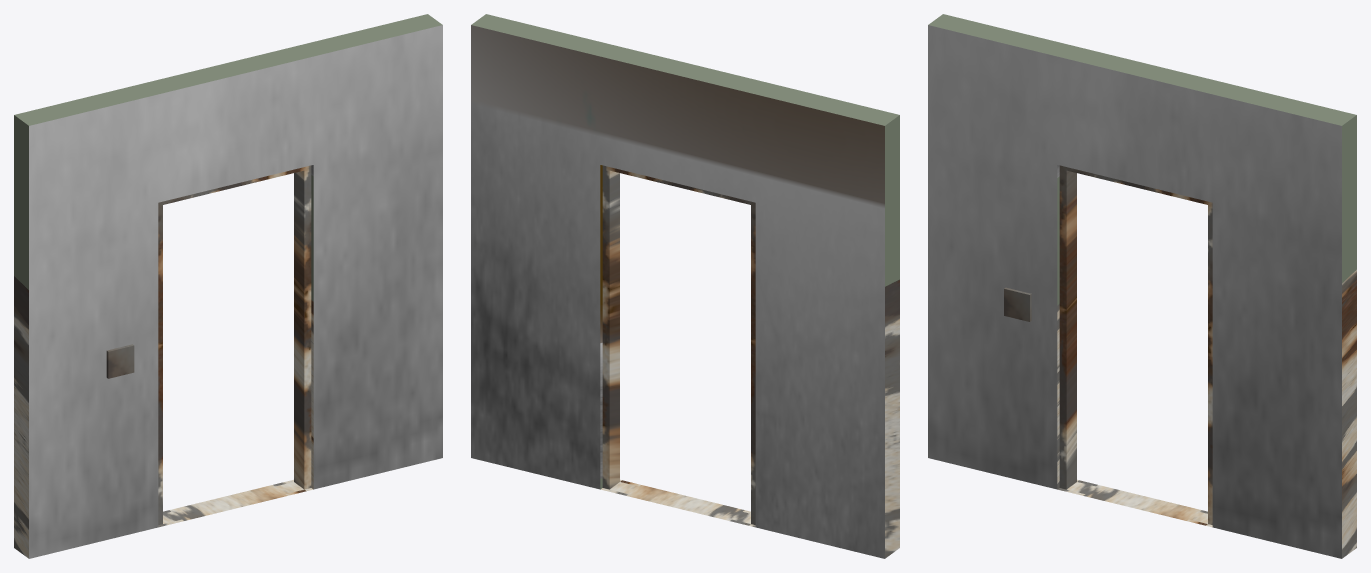
The model's file is entrance.fbx.
3 renders of one model, left to right at view 1: azimuth 30°, elevation 25°; view 2: azimuth 150°, elevation 25°; view 3: azimuth 330°, elevation 25°, orthographic.
Parts seen in each view (by area): view 1: Single_Doorway; view 2: Single_Doorway; view 3: Single_Doorway.
Boxes of the visible parts, <box> form: Single_Doorway: <box>14,14,442,558</box>; Single_Doorway: <box>471,14,899,558</box>; Single_Doorway: <box>928,14,1356,558</box>.
Bounding box in the file's own units: 300 × 300 × 21.
